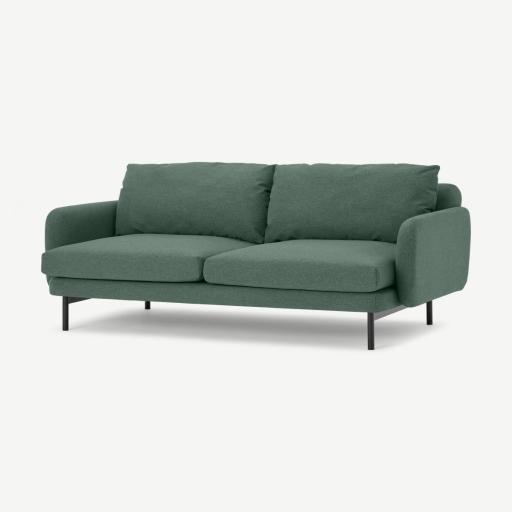back_cushion: (116, 162, 438, 242)
base: (49, 277, 400, 313)
left_arm: (395, 206, 470, 324)
legs: (368, 305, 406, 350), (62, 297, 88, 331), (246, 323, 265, 333), (427, 303, 431, 324), (297, 326, 304, 331)
right_arm: (45, 201, 117, 251)
seat_cushion: (42, 234, 395, 292)
two-seater: (0, 0, 511, 512)
